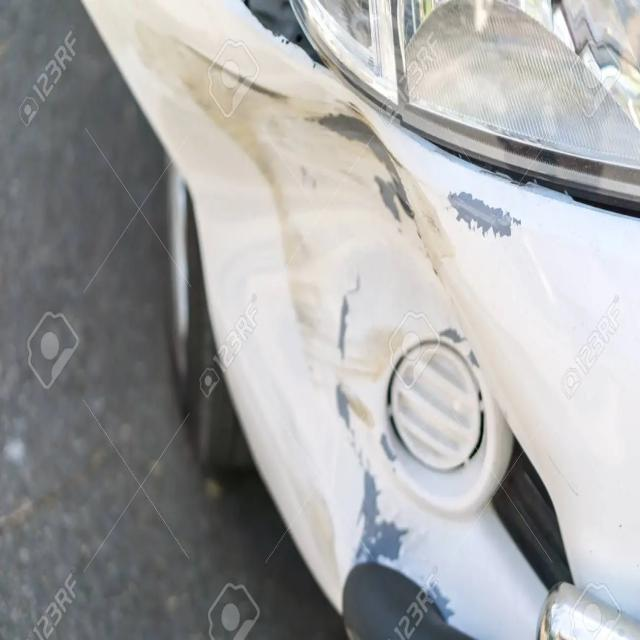dent: (243, 81, 443, 399)
misalignment: (240, 0, 331, 71)
scratch: (130, 16, 526, 626)
